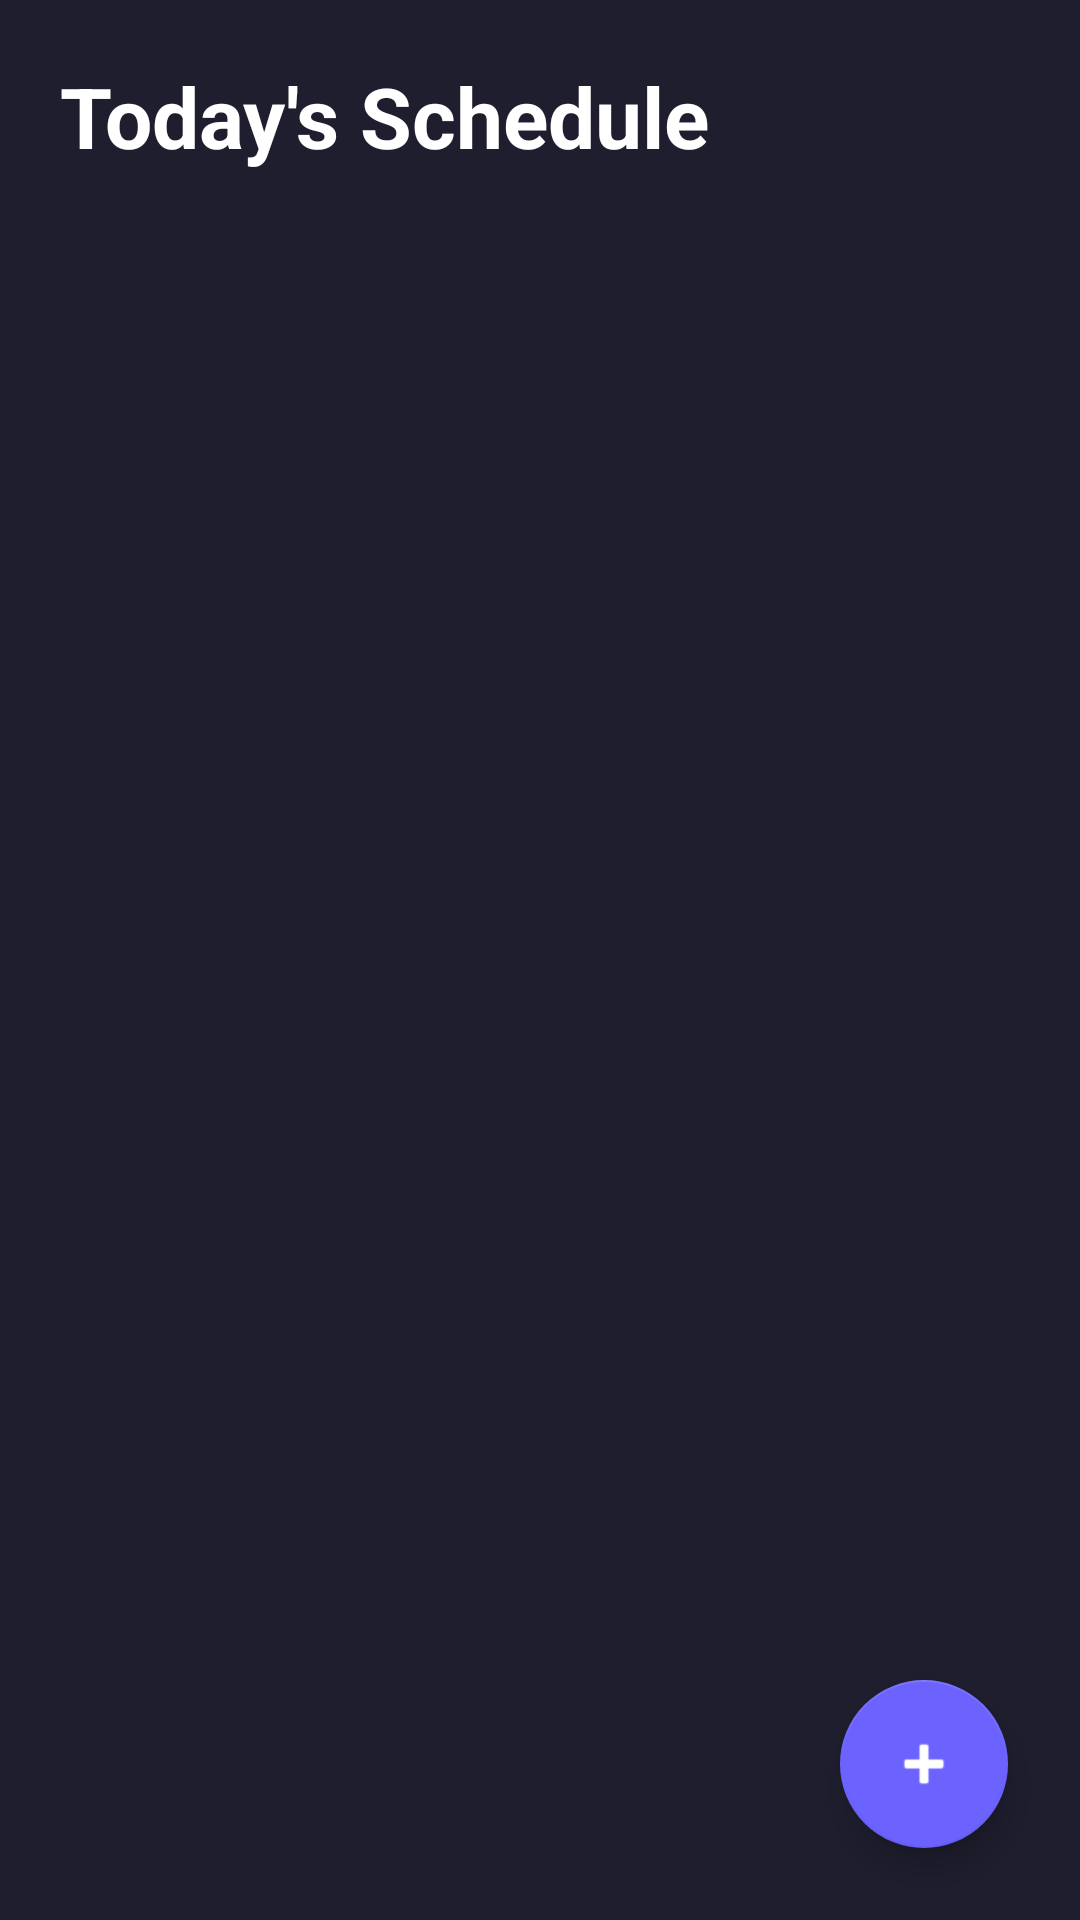

Screen size 1080px×1920px. Icon name, then its box in pixels as (left=x1, top=y1, right=x2, bottom=y2):
Add Schedule: (left=840, top=1680, right=1008, bottom=1848)
